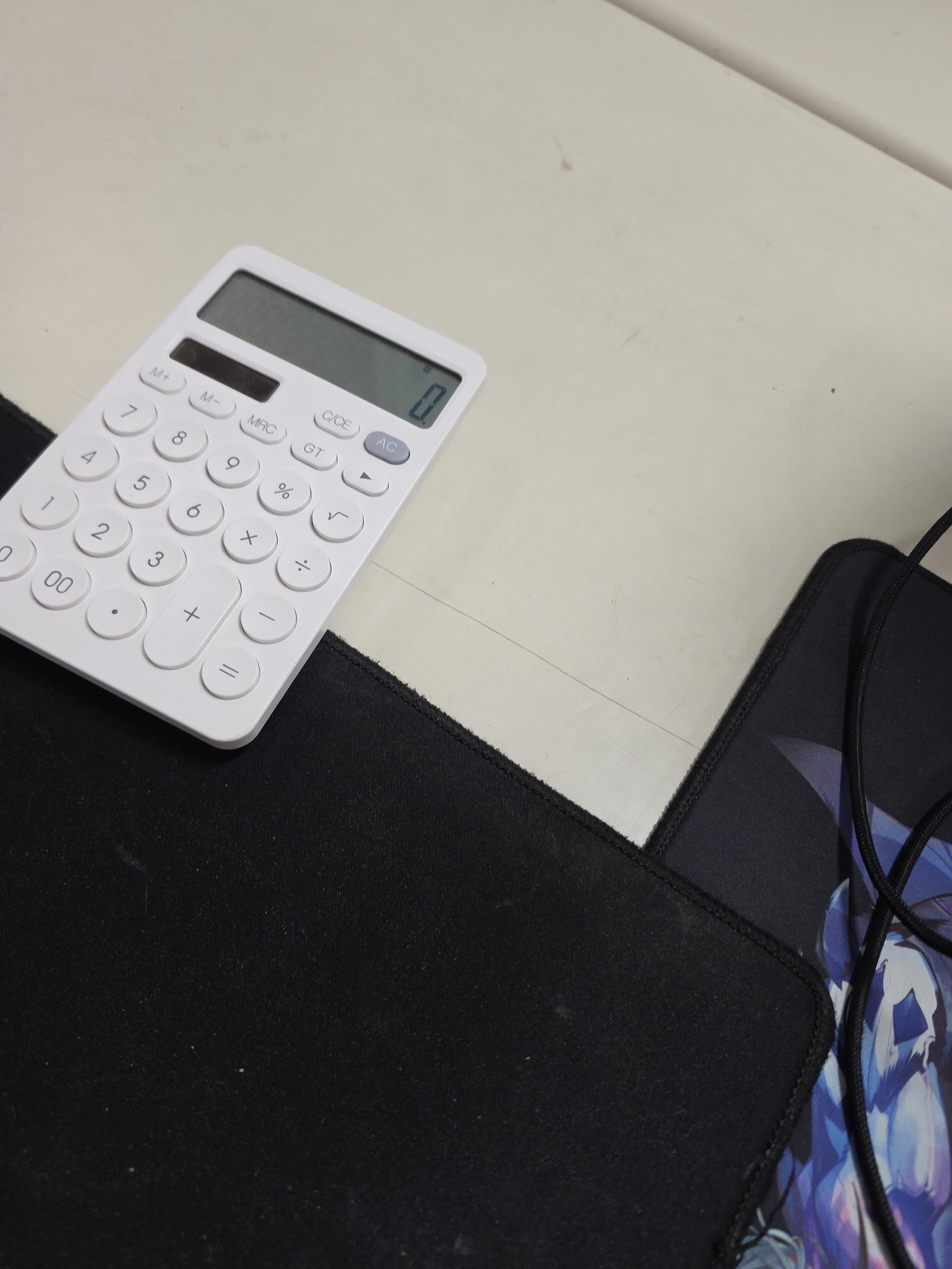calculator: (0, 245, 488, 751)
